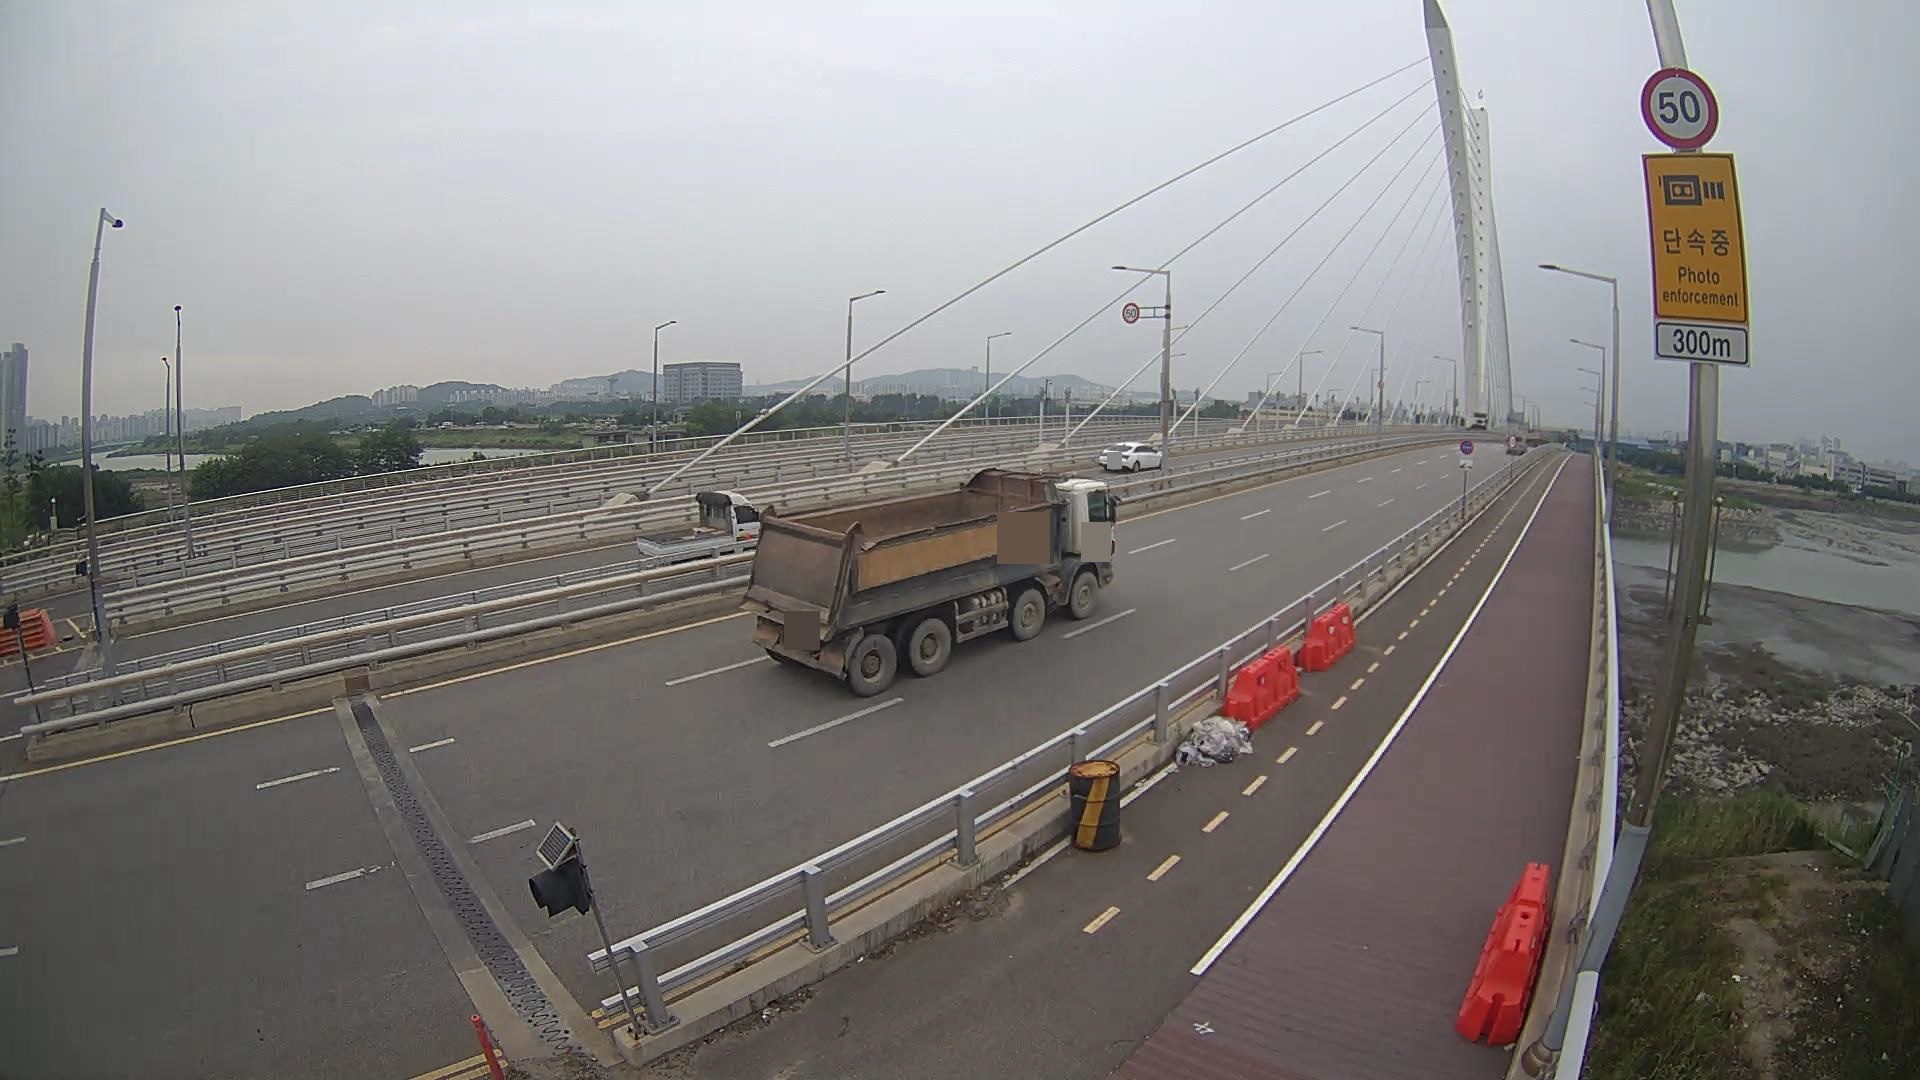정상차량: (740, 467, 1125, 698)
